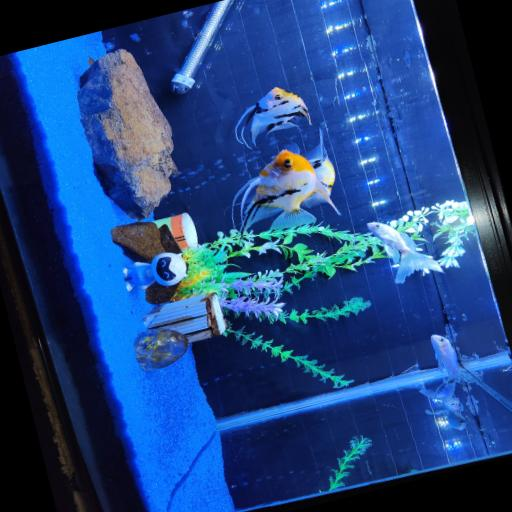Fish: (232, 144, 330, 229), (367, 221, 442, 282), (234, 87, 309, 146), (303, 128, 334, 195), (430, 334, 457, 382), (419, 382, 462, 412), (424, 409, 465, 429)
